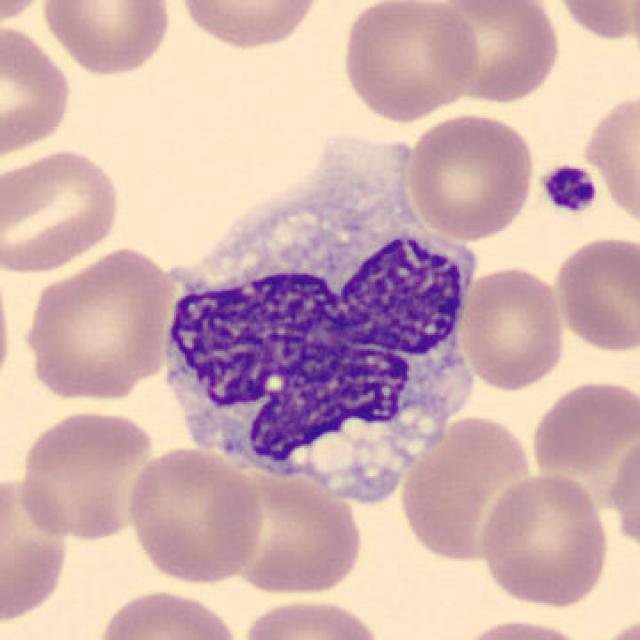Monocyte: (148, 166, 484, 510)
Platelets: (537, 160, 601, 217)
RBC: (18, 243, 178, 404), (397, 411, 542, 564), (122, 442, 266, 586), (12, 407, 162, 543), (475, 469, 613, 610), (219, 469, 368, 599), (336, 0, 484, 125), (404, 110, 538, 242), (0, 144, 124, 276), (455, 263, 569, 393), (428, 0, 564, 106), (0, 471, 73, 629), (526, 375, 636, 478), (37, 0, 175, 79), (0, 19, 75, 162), (550, 233, 638, 354), (579, 84, 640, 231), (171, 0, 329, 53), (92, 585, 244, 640), (238, 594, 384, 640), (606, 428, 640, 559), (548, 0, 638, 44), (452, 615, 596, 640), (0, 259, 14, 406), (0, 0, 57, 26), (588, 612, 638, 640)
